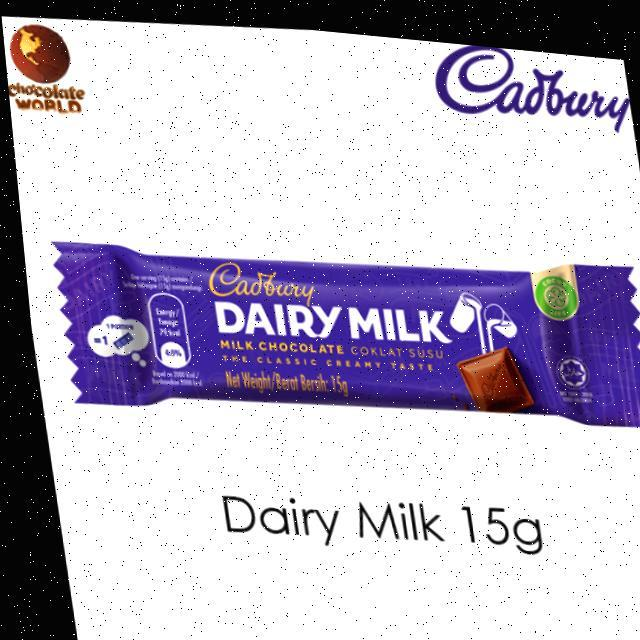cadbury_chocolate: (78, 236, 640, 434)
